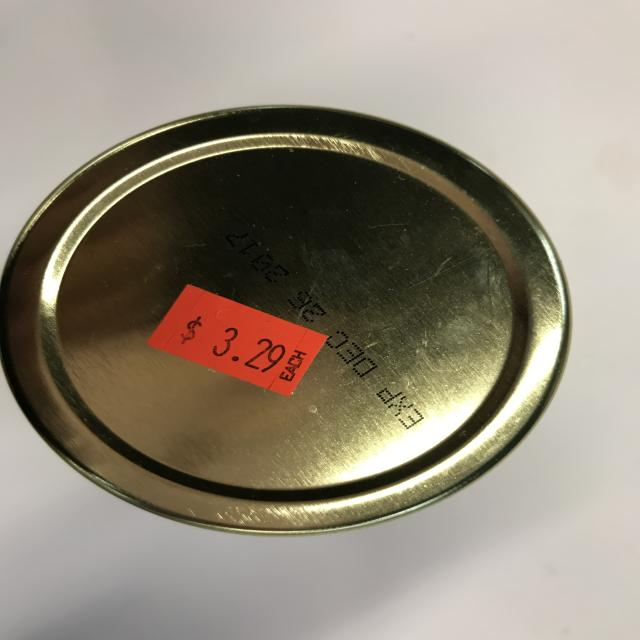glass: (1, 103, 572, 536)
